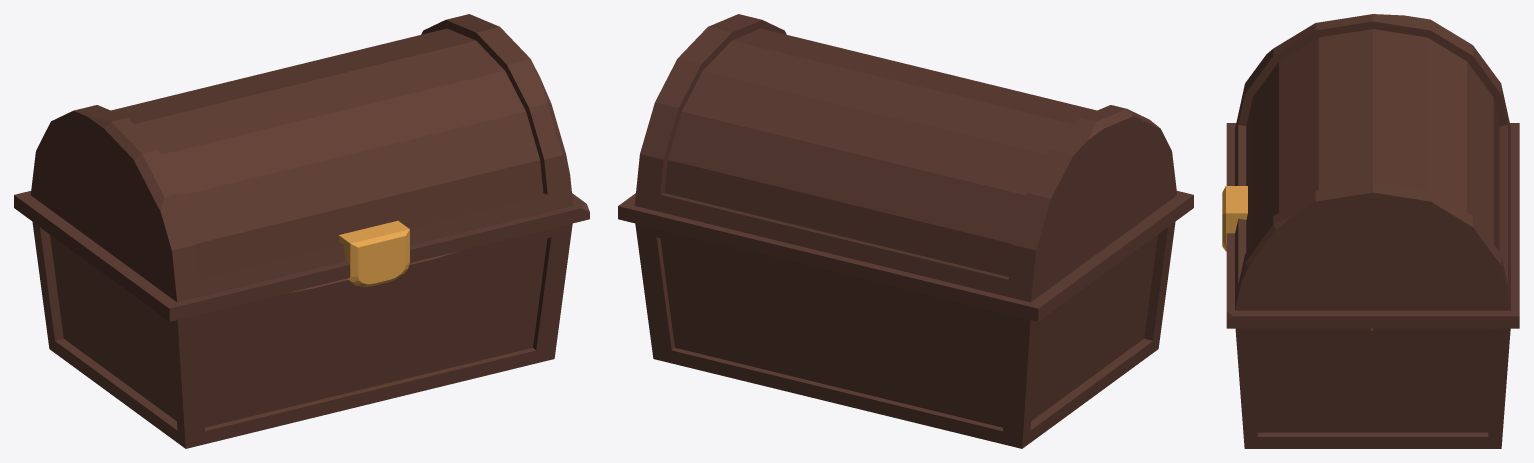
The model's file is sasha-wooden-chest.fbx.
The picture shows the model from 3 angles, left to right: view 1: azimuth 30°, elevation 25°; view 2: azimuth 150°, elevation 25°; view 3: azimuth 270°, elevation 25°; orthographic projection. The views are drawn at different scales.
Parts seen in each view (by area): view 1: top, bottom, lock; view 2: top, bottom; view 3: top, bottom, lock.
Boxes of the visible parts, box(x1,y1,x2,y2) form: top: box(14, 14, 589, 321); bottom: box(32, 221, 572, 448); lock: box(338, 220, 409, 287); top: box(618, 14, 1193, 321); bottom: box(635, 221, 1175, 448); top: box(1226, 14, 1519, 328); bottom: box(1235, 328, 1510, 448); lock: box(1222, 186, 1247, 251).
Bounding box in the file's own units: 331 × 210 × 215.
